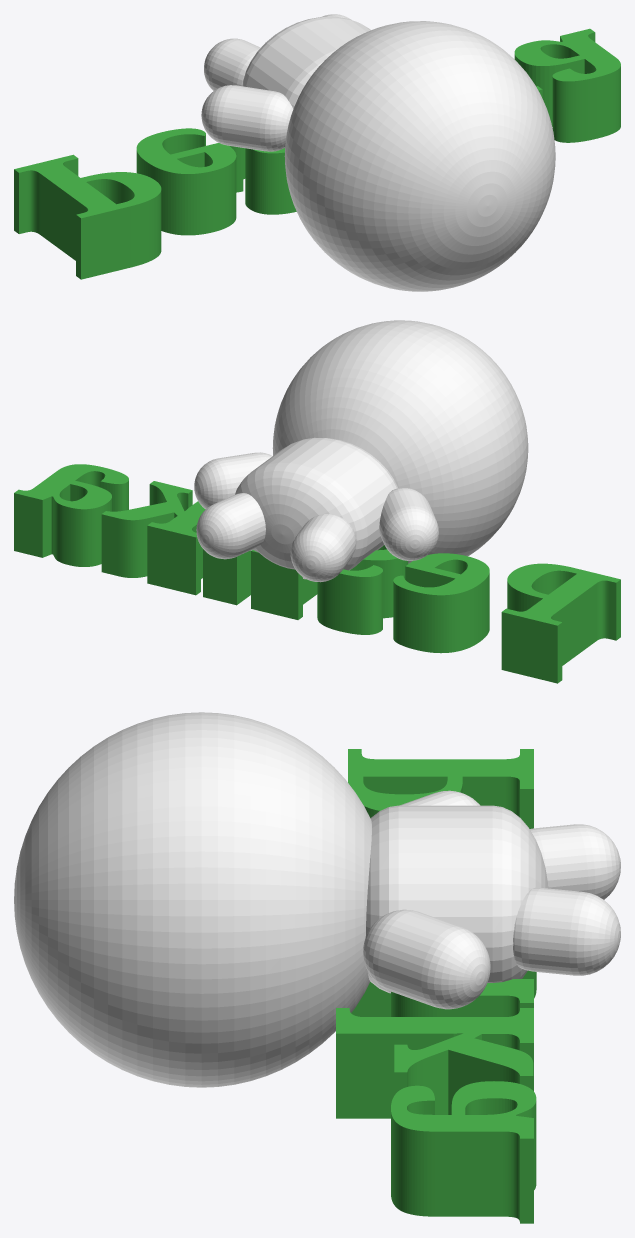
The model's file is tinker.obj.
The picture shows the model from 3 angles, top to bottom: view 1: azimuth 30°, elevation 25°; view 2: azimuth 150°, elevation 25°; view 3: azimuth 270°, elevation 25°; orthographic projection. The views are drawn at different scales.
Parts seen in each view (by area): view 1: obj_1, obj_0; view 2: obj_1, obj_0; view 3: obj_1, obj_0.
Boxes of the visible parts, bbox=[...] form: obj_1: bbox=[201, 14, 555, 291]; obj_0: bbox=[14, 28, 620, 279]; obj_1: bbox=[194, 320, 528, 582]; obj_0: bbox=[14, 464, 620, 683]; obj_1: bbox=[14, 712, 620, 1087]; obj_0: bbox=[336, 749, 536, 1223].
Bounding box in the file's own units: 98.26 × 40 × 64.69.
